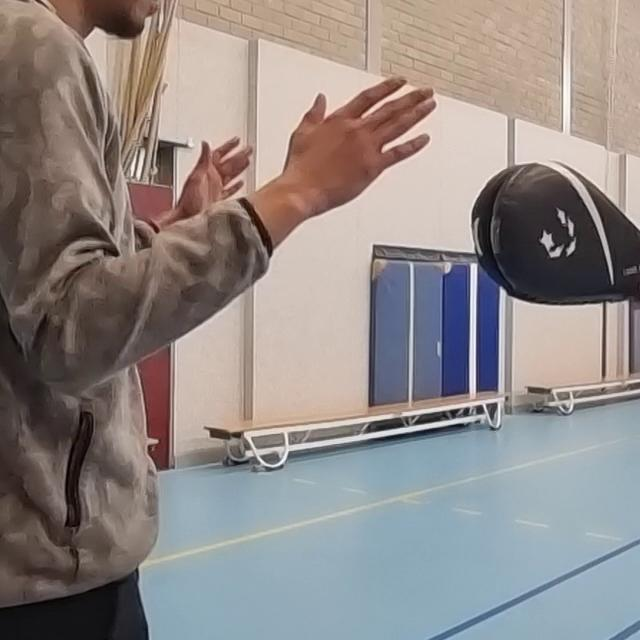paddle: (462, 148, 640, 313)
